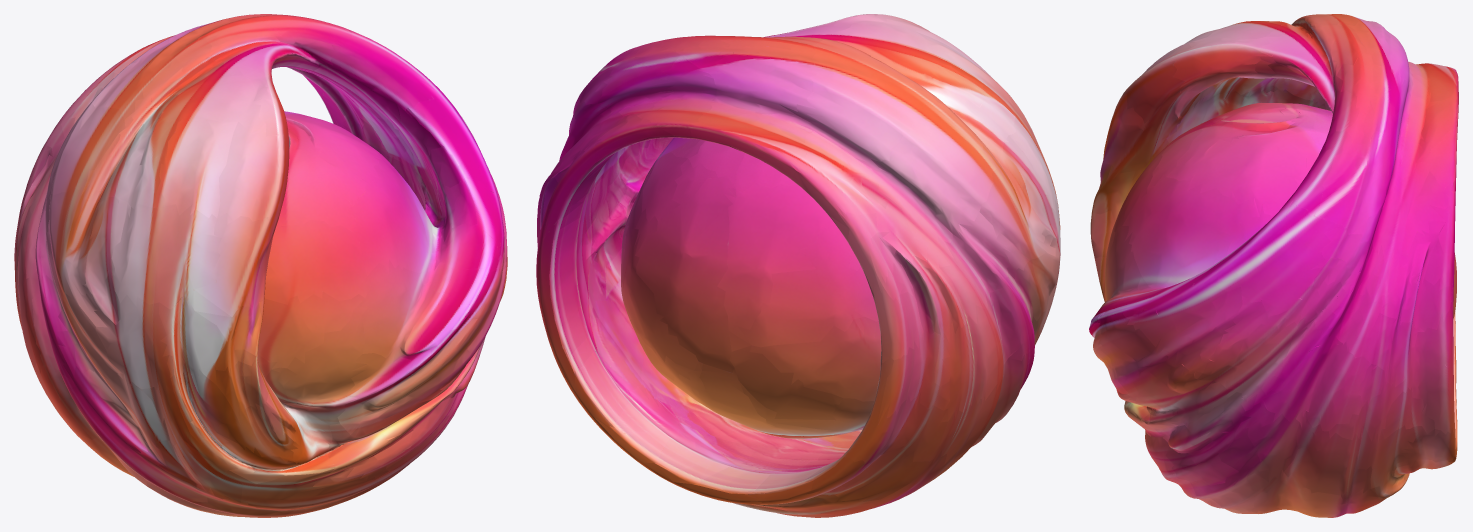
File: myconsult-orb.glb
3 views of the same model, side by side, from view 1: azimuth 30°, elevation 25°; view 2: azimuth 150°, elevation 25°; view 3: azimuth 270°, elevation 25° (orthographic). The views are drawn at different scales.
Bounding box in the file's own units: 1.89 × 1.9 × 1.4.
Materials: 1 (1 with a texture image).
